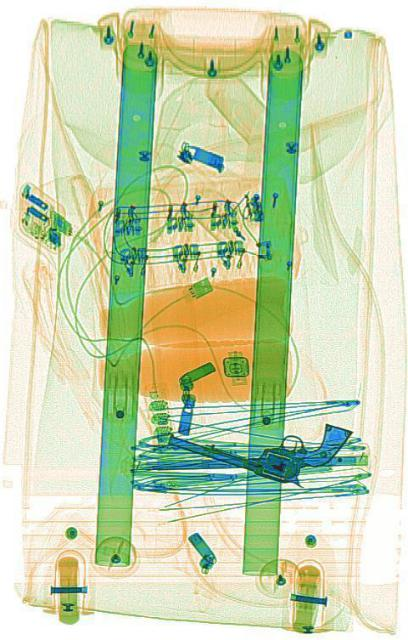Gun: (164, 375, 350, 497)
